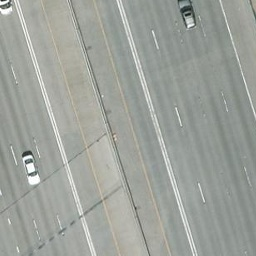car: (23, 155, 41, 186), (180, 1, 197, 30), (1, 1, 13, 14)
